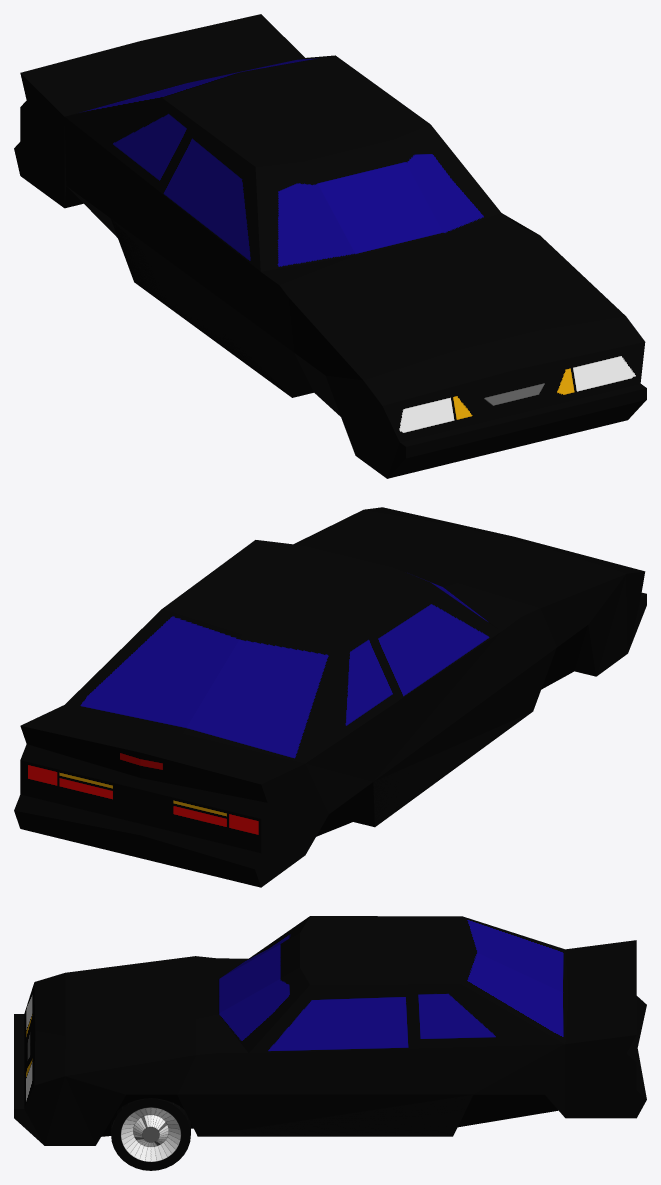
File: fxbdy_wheel_2.fbx
The picture shows the model from 3 angles, top to bottom: view 1: azimuth 30°, elevation 25°; view 2: azimuth 150°, elevation 25°; view 3: azimuth 270°, elevation 25°; orthographic projection. The views are drawn at different scales.
Parts seen in each view (by area): view 1: Plane; view 2: Plane; view 3: Plane, wheel.
Boxes of the visible parts, x1=… form: Plane: x1=14, y1=14, x2=646, y2=478; Plane: x1=14, y1=507, x2=646, y2=887; Plane: x1=14, y1=916, x2=646, y2=1145; wheel: x1=111, y1=1098, x2=190, y2=1170.
Size of the model in its own units: 240 by 183 by 620.
Materials: 2 (2 with a texture image).
